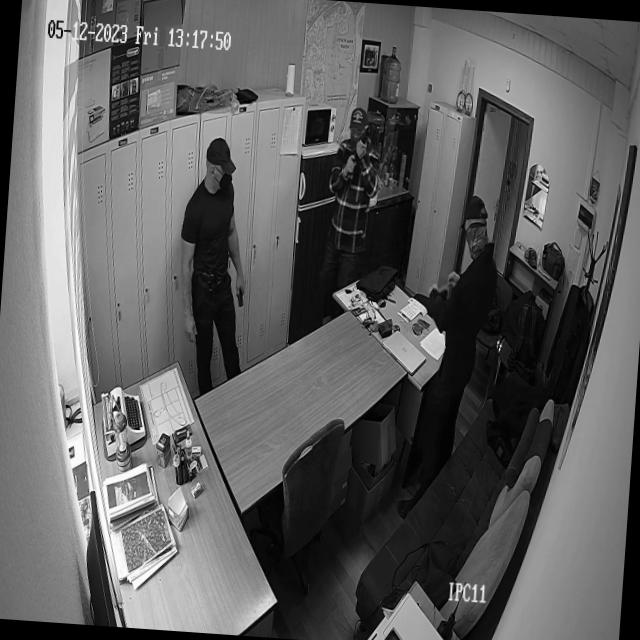gun: (346, 122, 372, 180)
person: (393, 191, 502, 524), (170, 135, 258, 400)
person with a gun: (316, 105, 385, 323)
